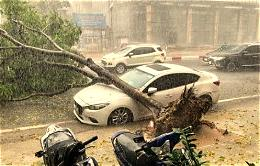ROAD_OBSTACLE: (39, 43, 257, 163)
